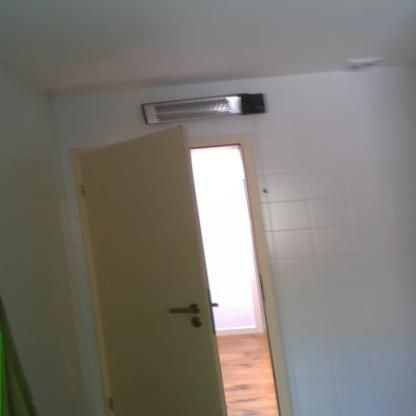semi: (54, 121, 315, 416)
